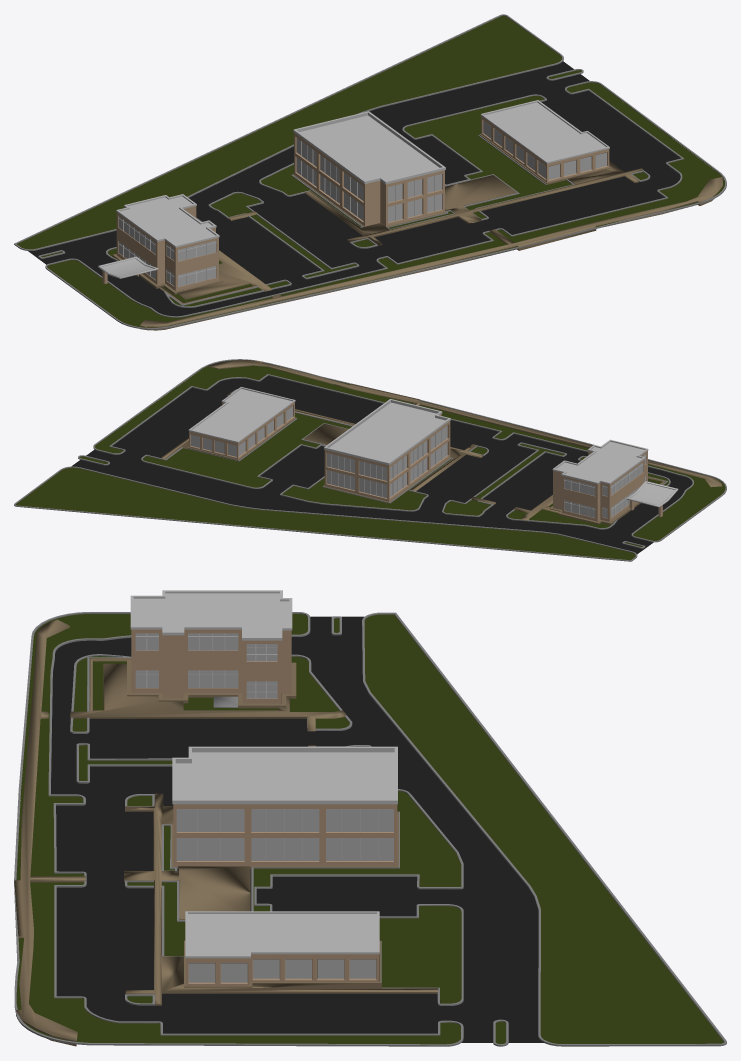
Rendered from campus.glb.
3 views of the same model, one above another, from view 1: azimuth 30°, elevation 25°; view 2: azimuth 150°, elevation 25°; view 3: azimuth 270°, elevation 25° (orthographic). The views are drawn at different scales.
Parts seen in each view (by area): view 1: mid_building_windows_shd_0, grass_pane2_grass_shd_0, mid_building_roof_white_shd_0, mid_building_pavement_shd_0, grass_pane2_pot_farme_shd_0, mid_building_walls_shd_0; view 2: mid_building_windows_shd_0, grass_pane2_grass_shd_0, mid_building_roof_white_shd_0, grass_pane2_pot_farme_shd_0, mid_building_walls_shd_0, mid_building_pavement_shd_0; view 3: mid_building_windows_shd_0, grass_pane2_grass_shd_0, mid_building_roof_white_shd_0, mid_building_pavement_shd_0, grass_pane2_pot_farme_shd_0, mid_building_walls_shd_0.
Part boxes in pixels (left/top/right/bottom): mid_building_windows_shd_0: left=28, top=61, right=680, bottom=316; grass_pane2_grass_shd_0: left=17, top=15, right=724, bottom=327; mid_building_roof_white_shd_0: left=98, top=100, right=609, bottom=278; mid_building_pavement_shd_0: left=112, top=134, right=722, bottom=330; grass_pane2_pot_farme_shd_0: left=14, top=14, right=726, bottom=329; mid_building_walls_shd_0: left=102, top=116, right=609, bottom=290; mid_building_windows_shd_0: left=71, top=375, right=692, bottom=554; grass_pane2_grass_shd_0: left=15, top=360, right=725, bottom=560; mid_building_roof_white_shd_0: left=188, top=387, right=678, bottom=507; grass_pane2_pot_farme_shd_0: left=14, top=359, right=726, bottom=561; mid_building_walls_shd_0: left=189, top=402, right=662, bottom=521; mid_building_pavement_shd_0: left=161, top=360, right=722, bottom=524; mid_building_windows_shd_0: left=48, top=616, right=543, bottom=1042; grass_pane2_grass_shd_0: left=16, top=614, right=724, bottom=1044; mid_building_roof_white_shd_0: left=130, top=590, right=397, bottom=958; mid_building_pavement_shd_0: left=14, top=619, right=438, bottom=1046; grass_pane2_pot_farme_shd_0: left=14, top=612, right=726, bottom=1046; mid_building_walls_shd_0: left=131, top=629, right=397, bottom=985.
Size of the model in its own units: 1.75 by 0.1369 by 1.22.
6 materials, 6 textured.
